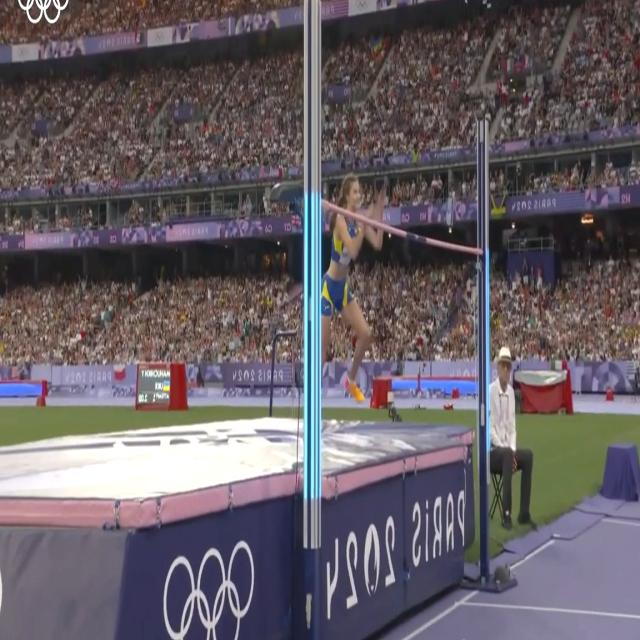land: (320, 174, 387, 402)
